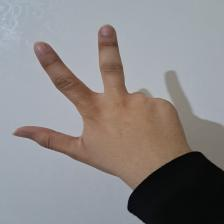three: (17, 27, 198, 180)
